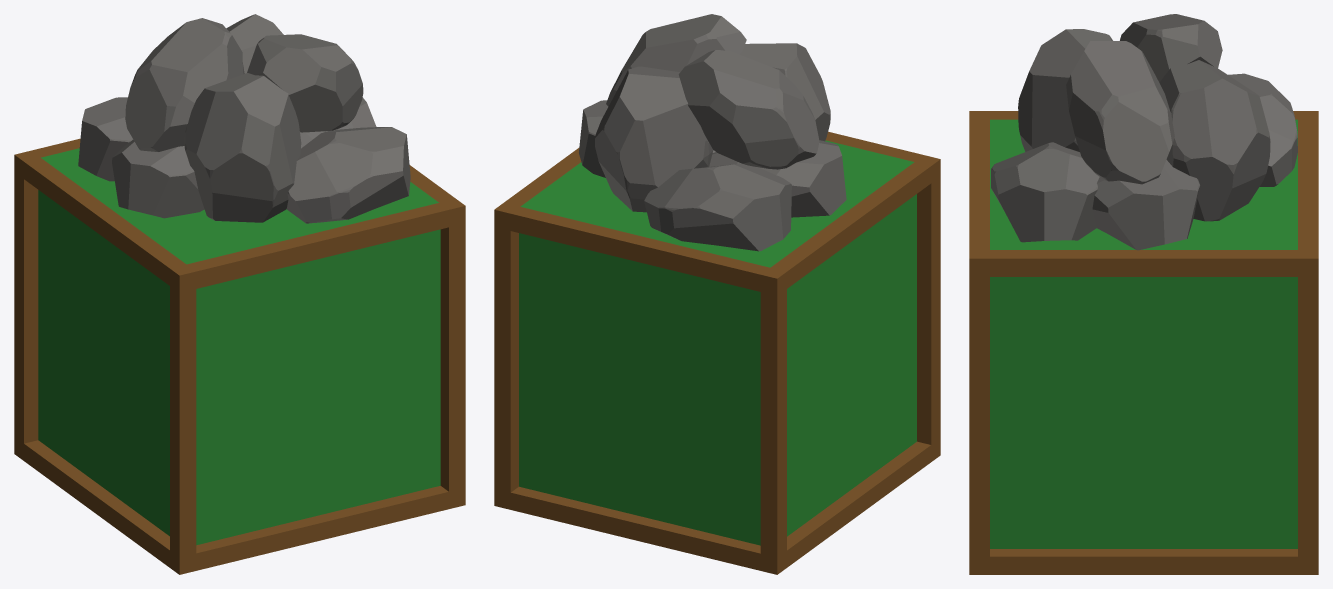
The model's file is Rocks_2.fbx.
3 views of the same model, side by side, from view 1: azimuth 30°, elevation 25°; view 2: azimuth 150°, elevation 25°; view 3: azimuth 270°, elevation 25° (orthographic). The views are drawn at different scales.
Visible parts, largest first — view 1: Circle.002; view 2: Circle.002; view 3: Circle.002.
Boxes of the visible parts, box(x1,y1,x2,y2) form: Circle.002: box(14, 14, 465, 574); Circle.002: box(494, 14, 940, 574); Circle.002: box(969, 14, 1318, 574).
Size of the model in its own units: 200 by 298 by 200.
